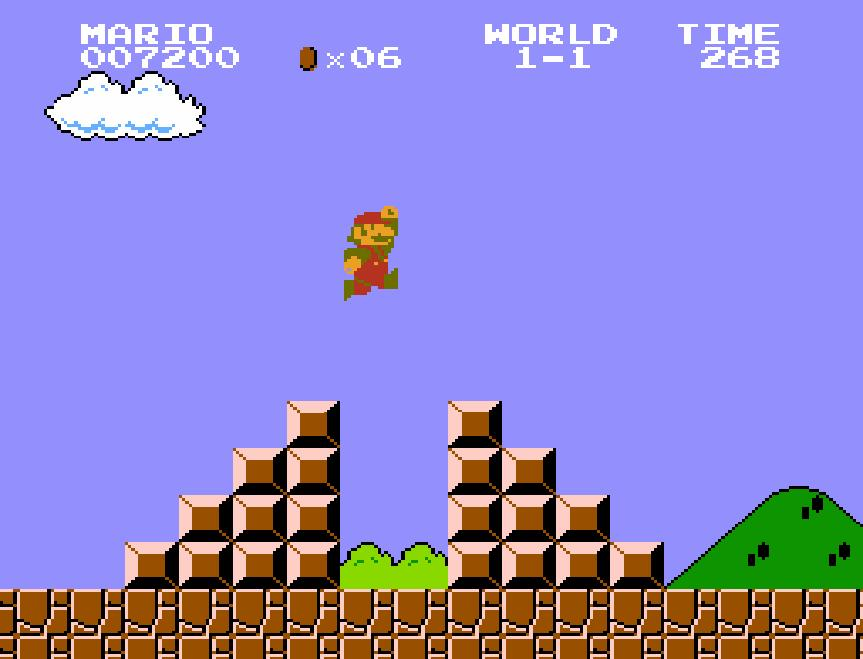big_mario: (342, 204, 400, 302)
